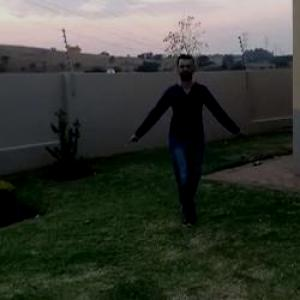land: (136, 58, 236, 202)
